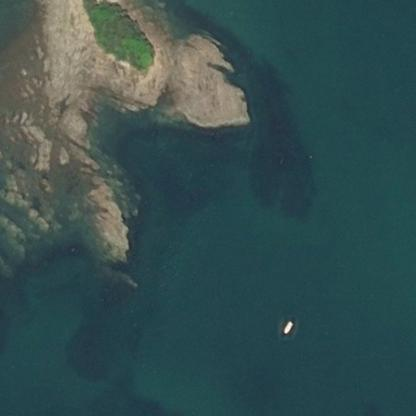ship: (276, 313, 298, 338)
